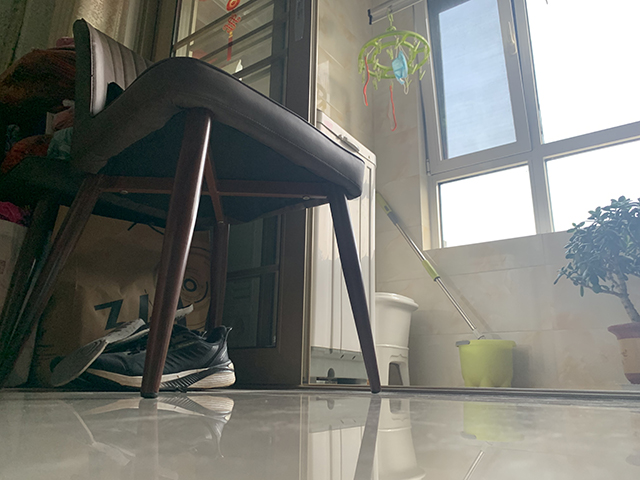stool: (1, 15, 384, 397)
